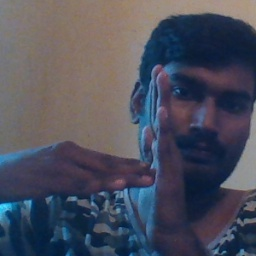Z: (68, 61, 199, 249)
